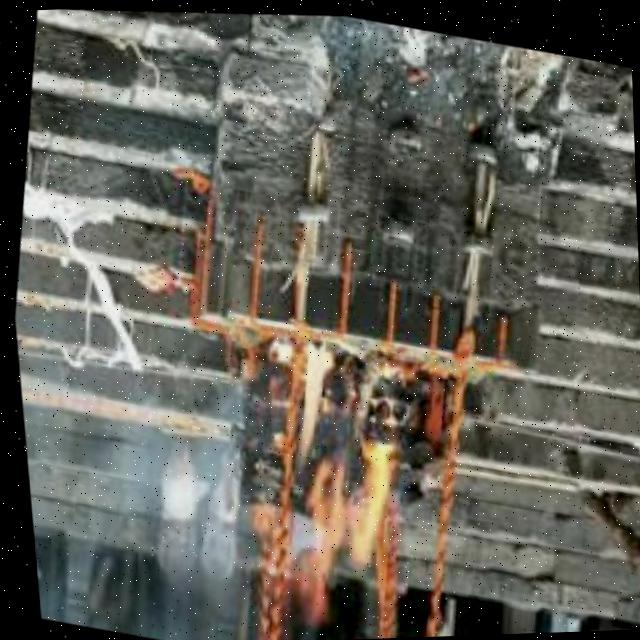fire: (247, 324, 413, 629)
